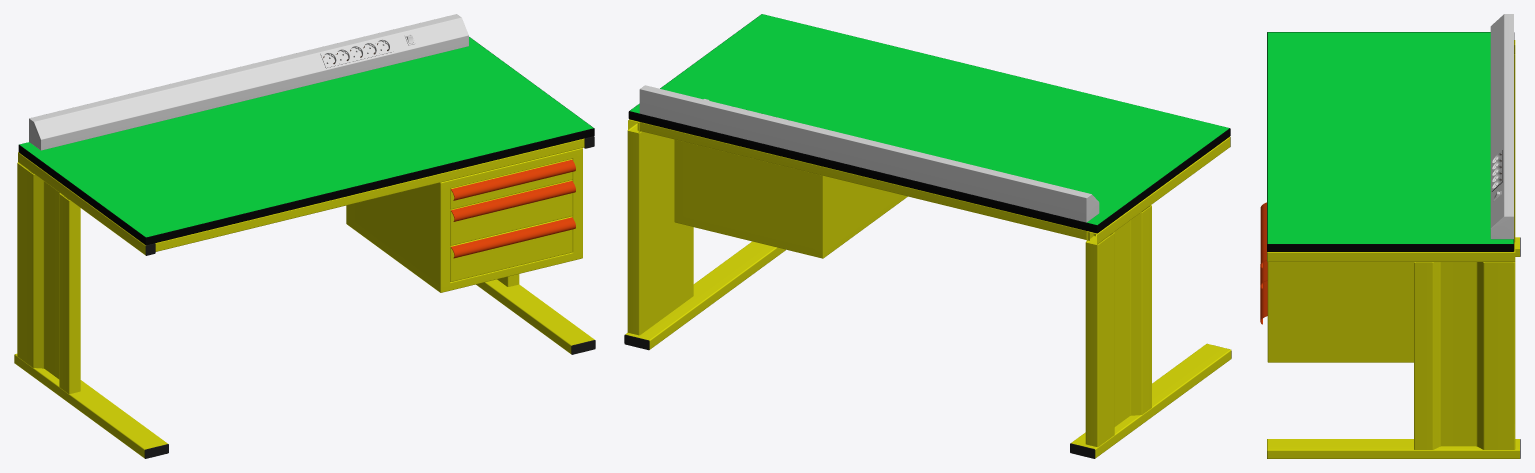
File: Стол радиотехникаV2.fbx
3 views of the same model, side by side, from view 1: azimuth 30°, elevation 25°; view 2: azimuth 150°, elevation 25°; view 3: azimuth 270°, elevation 25° (orthographic). The views are drawn at different scales.
Parts seen in each view (by area): view 1: Korpus_table_radiotechnica, Korpus_rozetkas, Shell_2, Shell_3, Shell_1; view 2: Korpus_table_radiotechnica, Korpus_rozetkas; view 3: Korpus_table_radiotechnica, Korpus_rozetkas, Shell_1, Shell_3.
Part boxes in pixels (bbox=[...]): Korpus_table_radiotechnica: bbox=[14, 37, 595, 458]; Korpus_rozetkas: bbox=[29, 14, 468, 150]; Shell_2: bbox=[450, 180, 575, 245]; Shell_3: bbox=[450, 216, 575, 281]; Shell_1: bbox=[450, 159, 575, 209]; Korpus_table_radiotechnica: bbox=[624, 14, 1231, 458]; Korpus_rozetkas: bbox=[639, 85, 1099, 222]; Korpus_table_radiotechnica: bbox=[1267, 32, 1520, 458]; Korpus_rozetkas: bbox=[1490, 14, 1513, 239]; Shell_1: bbox=[1260, 202, 1266, 268]; Shell_3: bbox=[1260, 264, 1267, 324].
Bounding box in the file's own units: 149 × 77.52 × 76.91.
